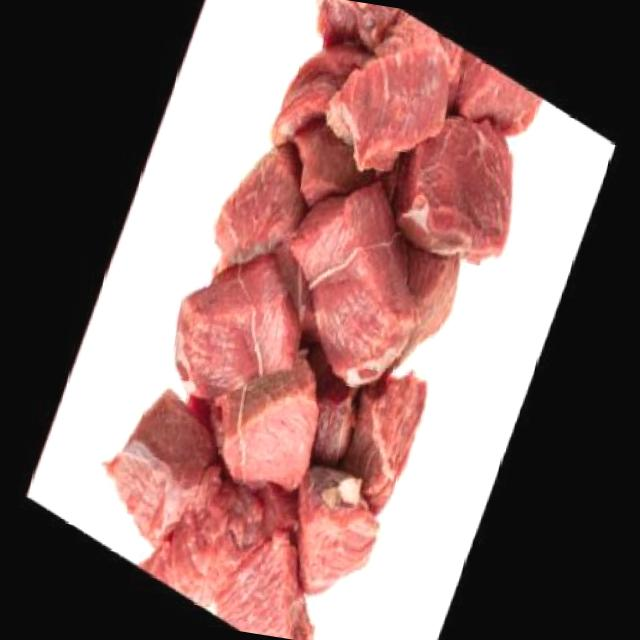beef: (113, 0, 539, 640)
